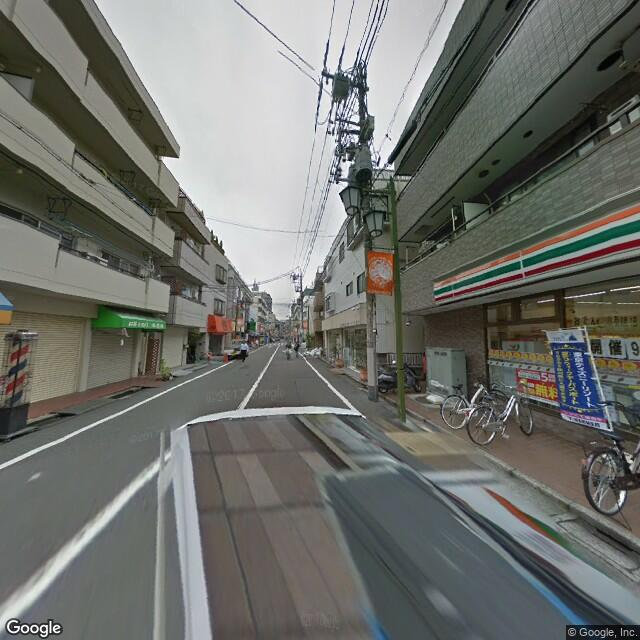7-eleven: (434, 198, 637, 306)
